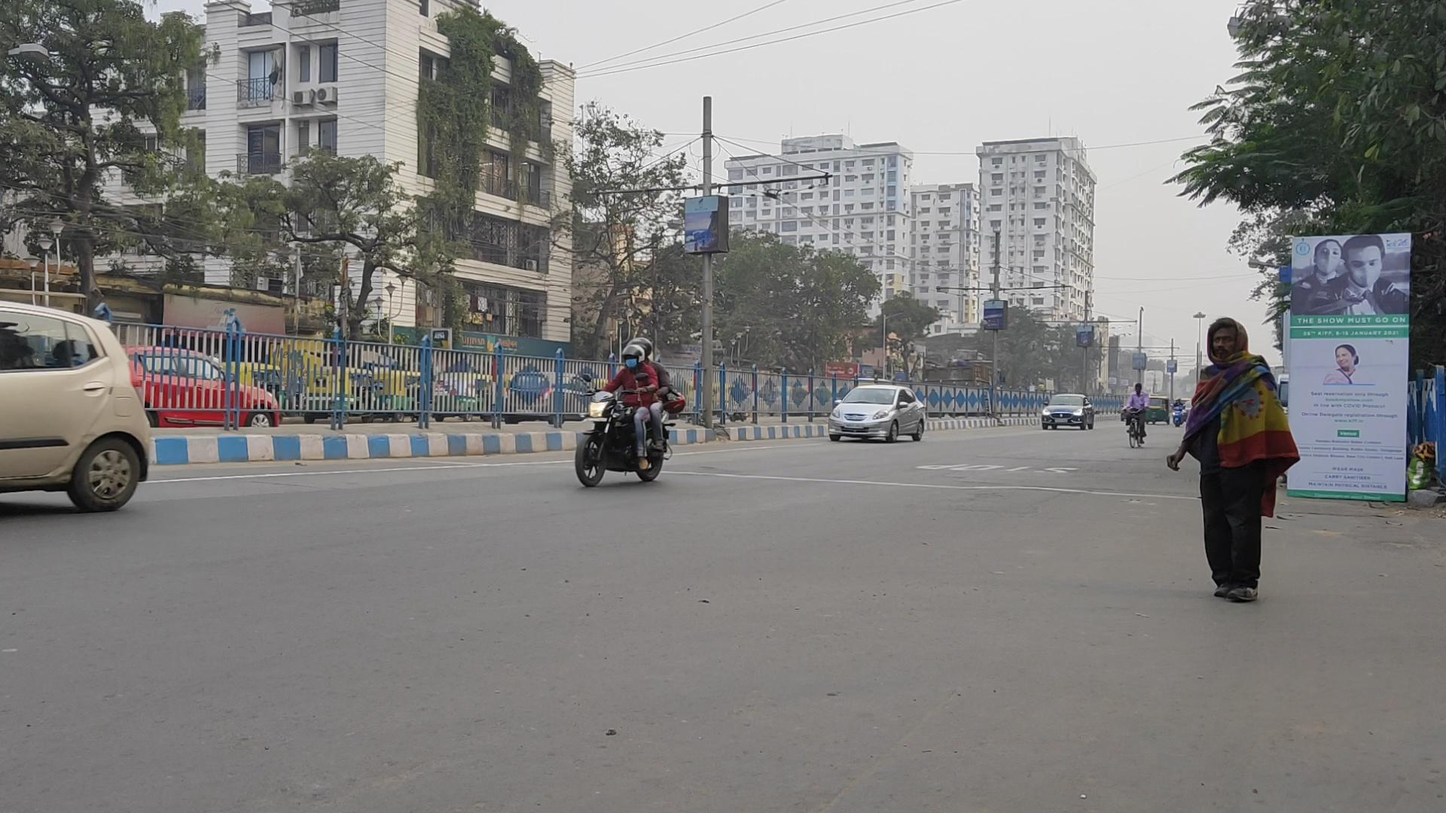Auto: (1146, 394, 1170, 426)
bike: (572, 337, 686, 487), (1123, 382, 1149, 448), (1172, 397, 1187, 427)
car: (1, 300, 156, 515), (827, 383, 926, 445), (1039, 392, 1096, 431)
